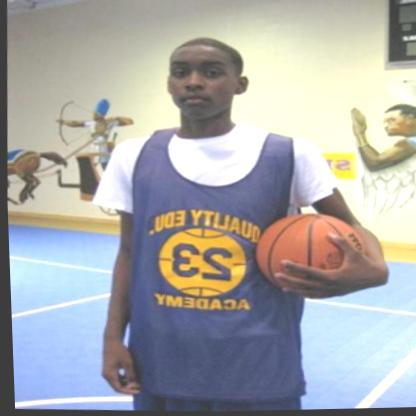basketball: (252, 212, 371, 299)
